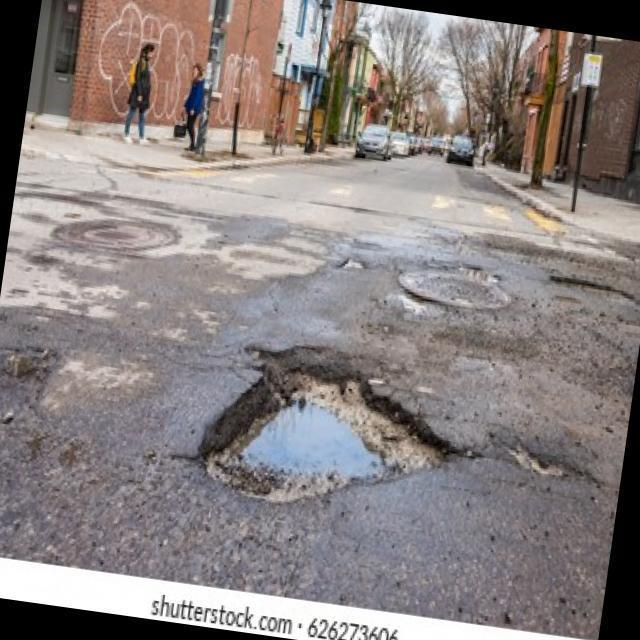Pothole: (199, 366, 448, 504)
